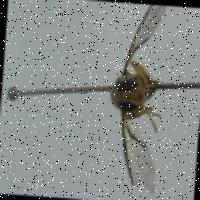Oriental-fruit-fly: (94, 0, 184, 196)
